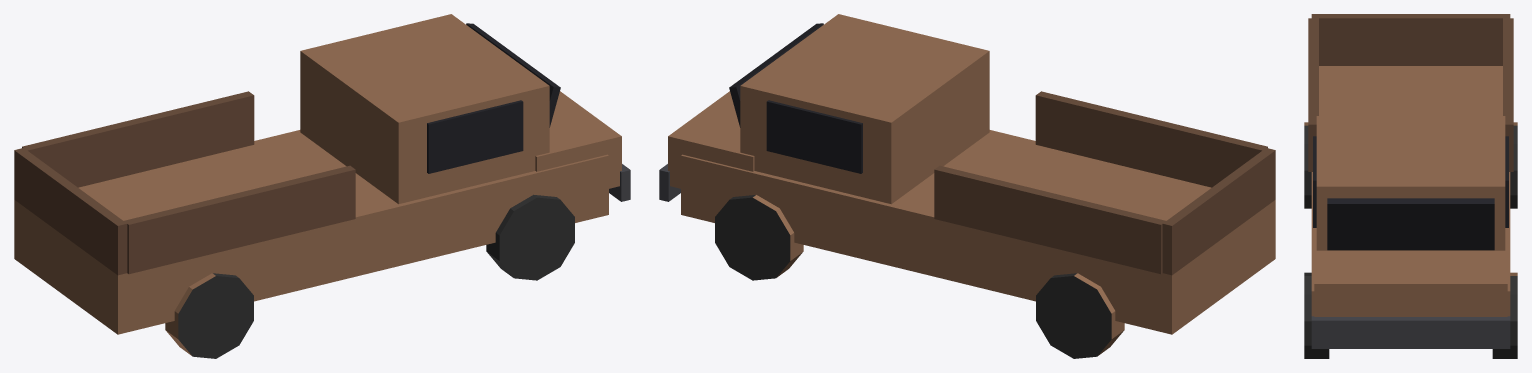
File: v2_car_pickup.glb
3 renders of one model, left to right at view 1: azimuth 30°, elevation 25°; view 2: azimuth 150°, elevation 25°; view 3: azimuth 270°, elevation 25°, orthographic. The views are drawn at different scales.
Parts seen in each view (by area): view 1: v2_car_pickup; view 2: v2_car_pickup; view 3: v2_car_pickup.
Part boxes in pixels (left/top/right/bottom): v2_car_pickup: left=14, top=14, right=630, bottom=358; v2_car_pickup: left=659, top=14, right=1275, bottom=358; v2_car_pickup: left=1304, top=14, right=1517, bottom=358.
Bounding box in the file's own units: 5.43 × 1.88 × 2.04.
